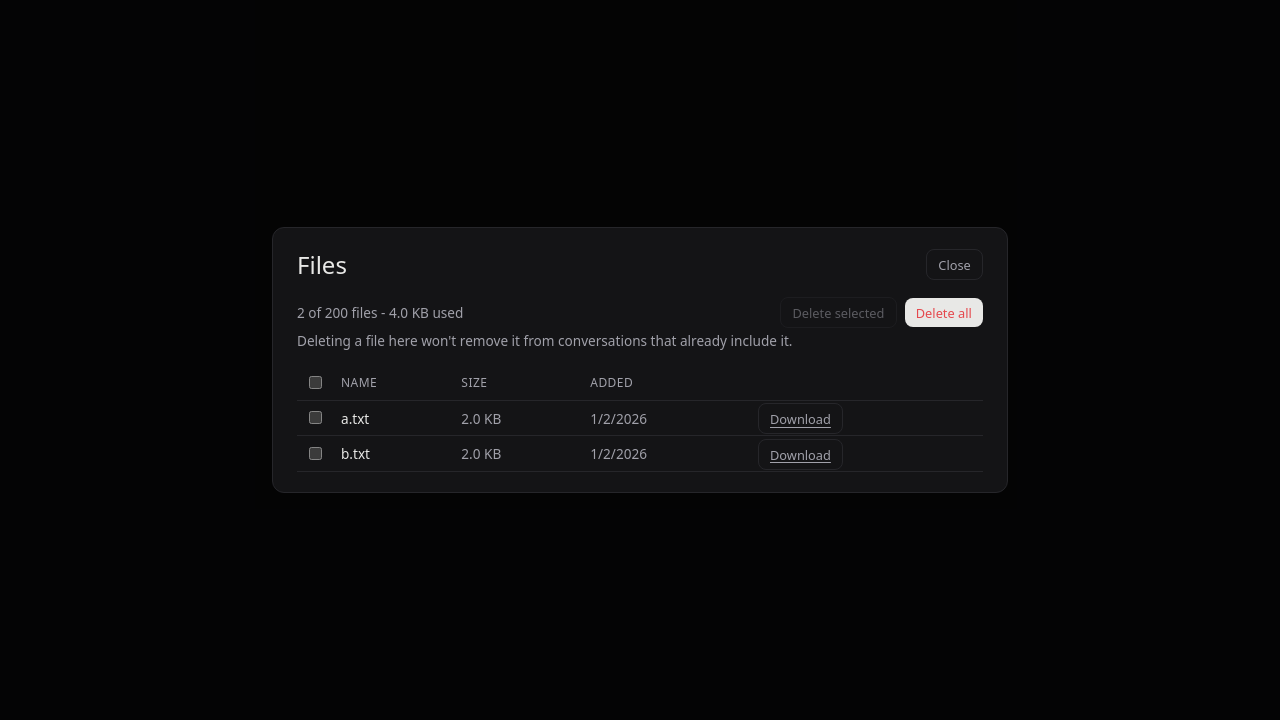
it: FilesPanel — delete › the select-all header checkbox selects then clears every row
Expected: the text "a.txt" is shown, 333,401 -> 453,436
Click the checkbox named "Select all" at (316, 382), box 309,376 -> 322,389
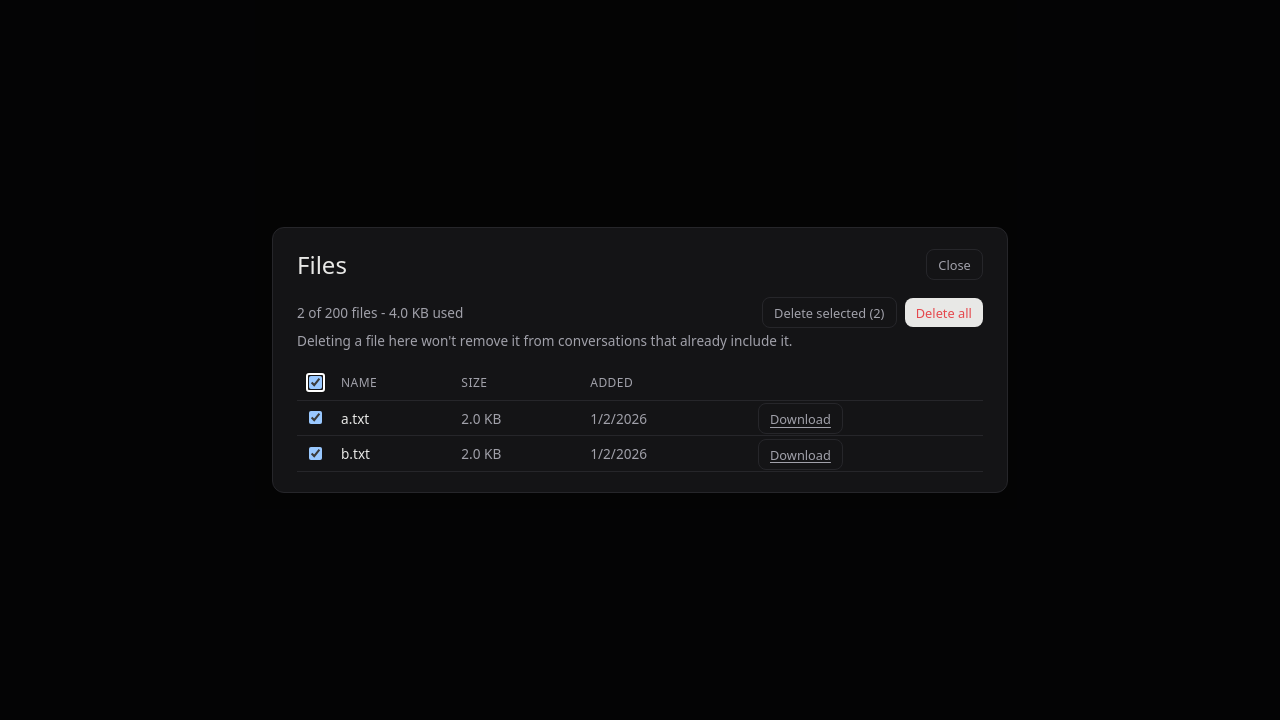
Expected: the checkbox named "a.txt" is checked, 309,411 -> 322,424
Expected: the checkbox named "b.txt" is checked, 309,447 -> 322,460
Click the checkbox named "Select all" at (316, 382), box 309,376 -> 322,389
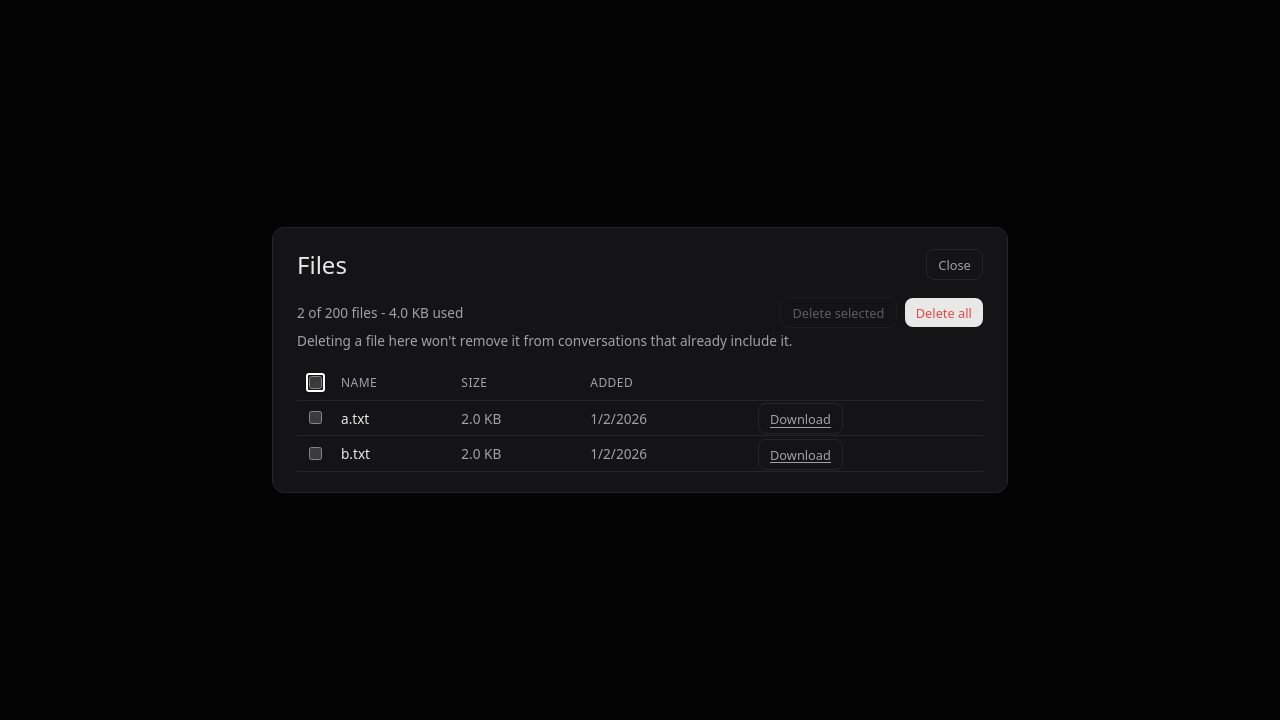
Expected: the checkbox named "a.txt" is not checked, 309,411 -> 322,424
